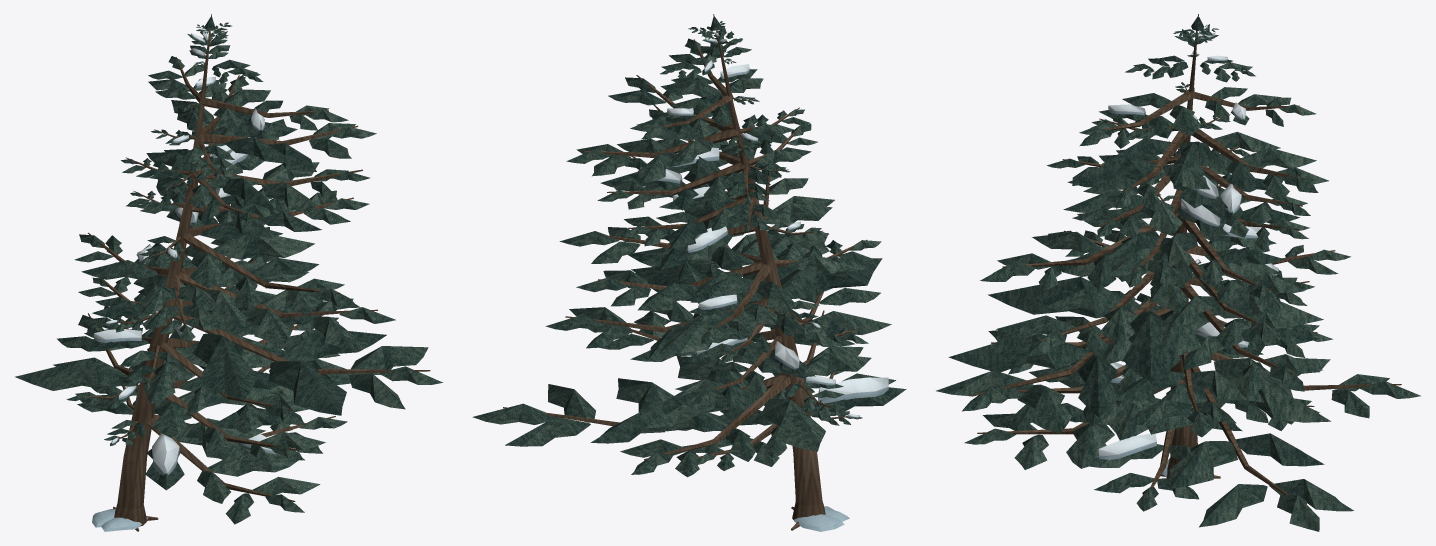
Rendered from 29_Windswept_Treeline_Pine.obj.
3 views of the same model, side by side, from view 1: azimuth 30°, elevation 25°; view 2: azimuth 150°, elevation 25°; view 3: azimuth 270°, elevation 25° (orthographic). The views are drawn at different scales.
Parts seen in each view (by area): view 1: 29_Windswept_Treeline_Pine; view 2: 29_Windswept_Treeline_Pine; view 3: 29_Windswept_Treeline_Pine.
Part boxes in pixels (bbox=[...]): 29_Windswept_Treeline_Pine: bbox=[15, 14, 442, 531]; 29_Windswept_Treeline_Pine: bbox=[472, 14, 906, 531]; 29_Windswept_Treeline_Pine: bbox=[936, 14, 1420, 531].
Bounding box in the file's own units: 3.25 × 4.52 × 3.9.
Materials: 5 (5 with a texture image).
